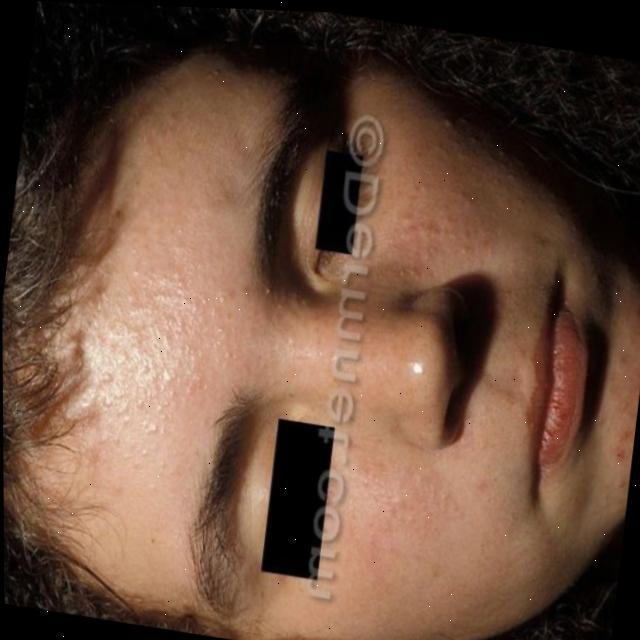Rosacea: (93, 238, 230, 451), (371, 157, 543, 302), (338, 462, 464, 595), (600, 295, 640, 494)
